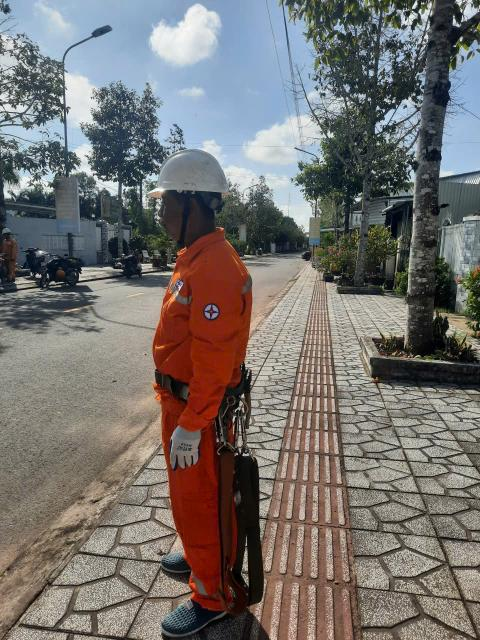gloves: (147, 422, 209, 471)
harness: (140, 376, 262, 417)
helmet: (135, 127, 240, 213)
shoes: (152, 588, 253, 640), (157, 546, 213, 577)
